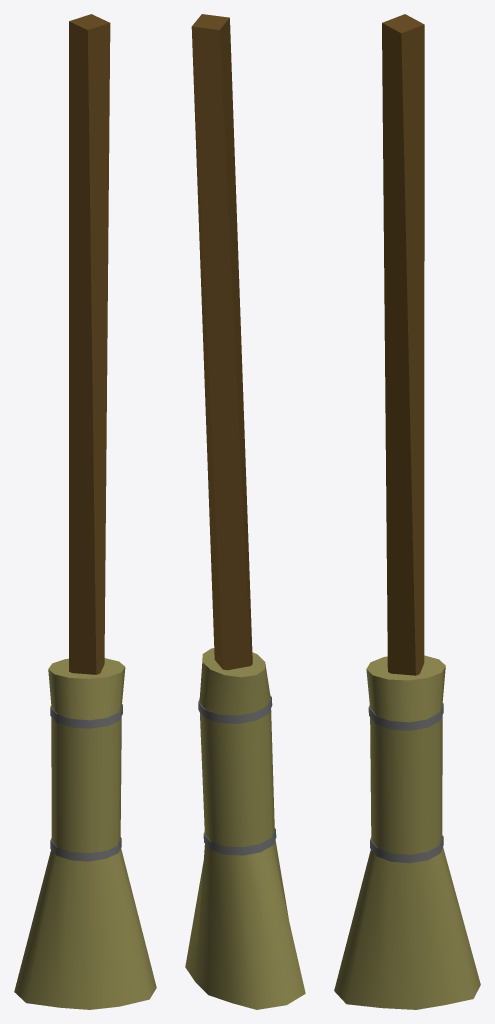
File: mesh_broom.fbx
The picture shows the model from 3 angles, left to right: view 1: azimuth 90°, elevation 25°; view 2: azimuth 210°, elevation 25°; view 3: azimuth 270°, elevation 25°; orthographic projection. The views are drawn at different scales.
Parts seen in each view (by area): view 1: broom; view 2: broom; view 3: broom.
Boxes of the visible parts, x1,y1,x2,y2 form: broom: (14, 14, 156, 1009); broom: (185, 14, 305, 1009); broom: (334, 14, 480, 1009).
Bounding box in the file's own units: 13.37 × 129 × 17.46.
Materials: 1 (1 with a texture image).
